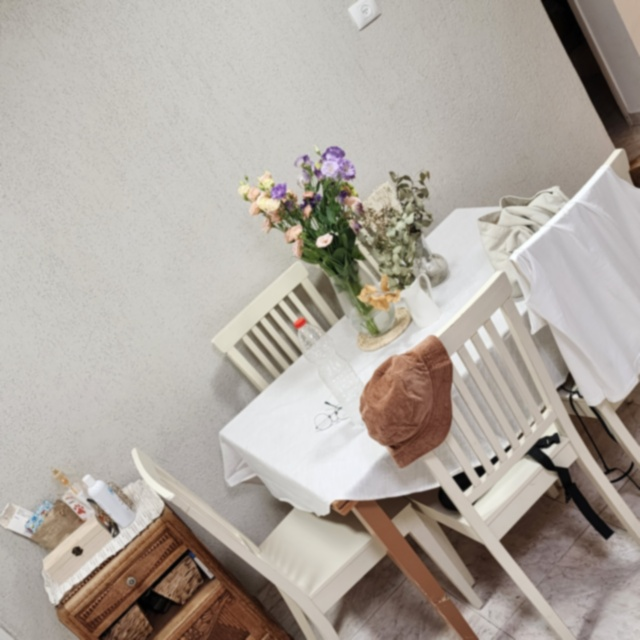glasses: (311, 398, 350, 432)
